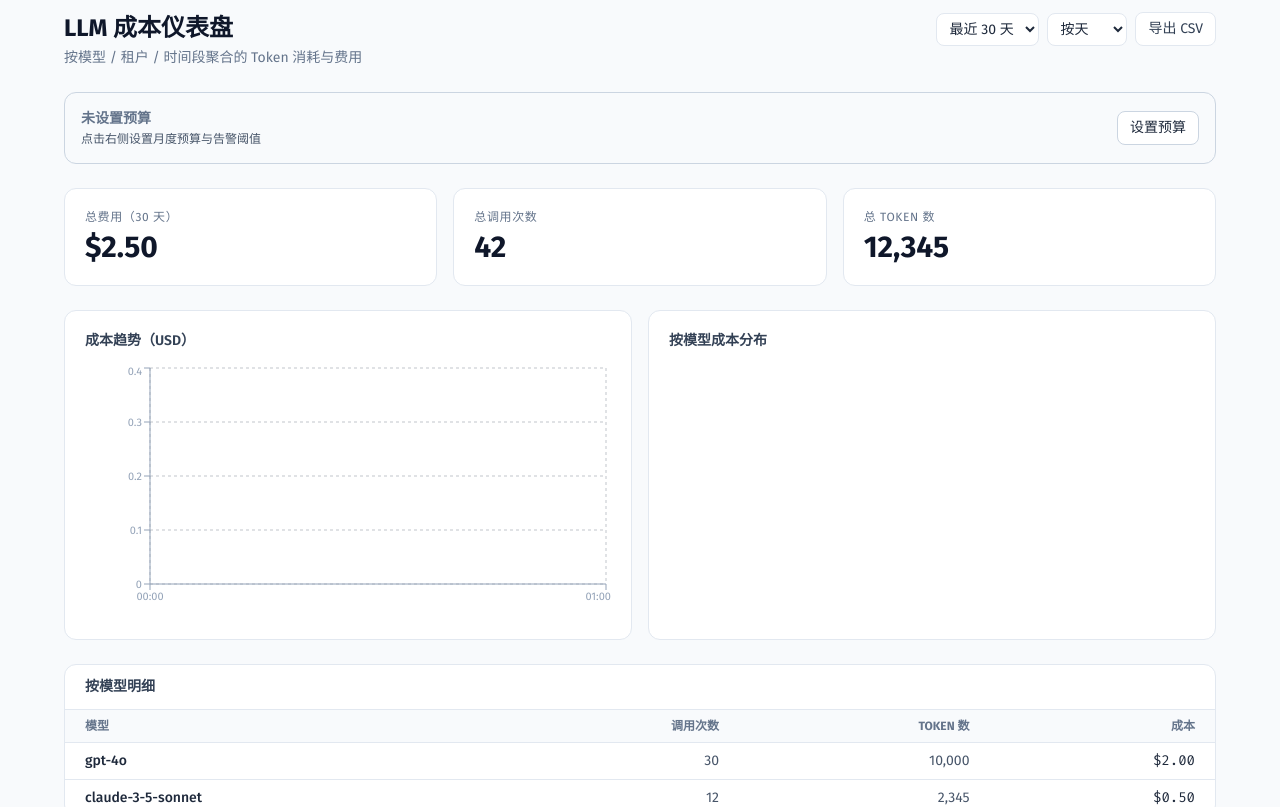
Scenario: CostDashboard › opens the budget editor when the user clicks "设置预算"
Click the button "设置预算". click: click(1158, 128)
box: [1117, 111, 1199, 145]
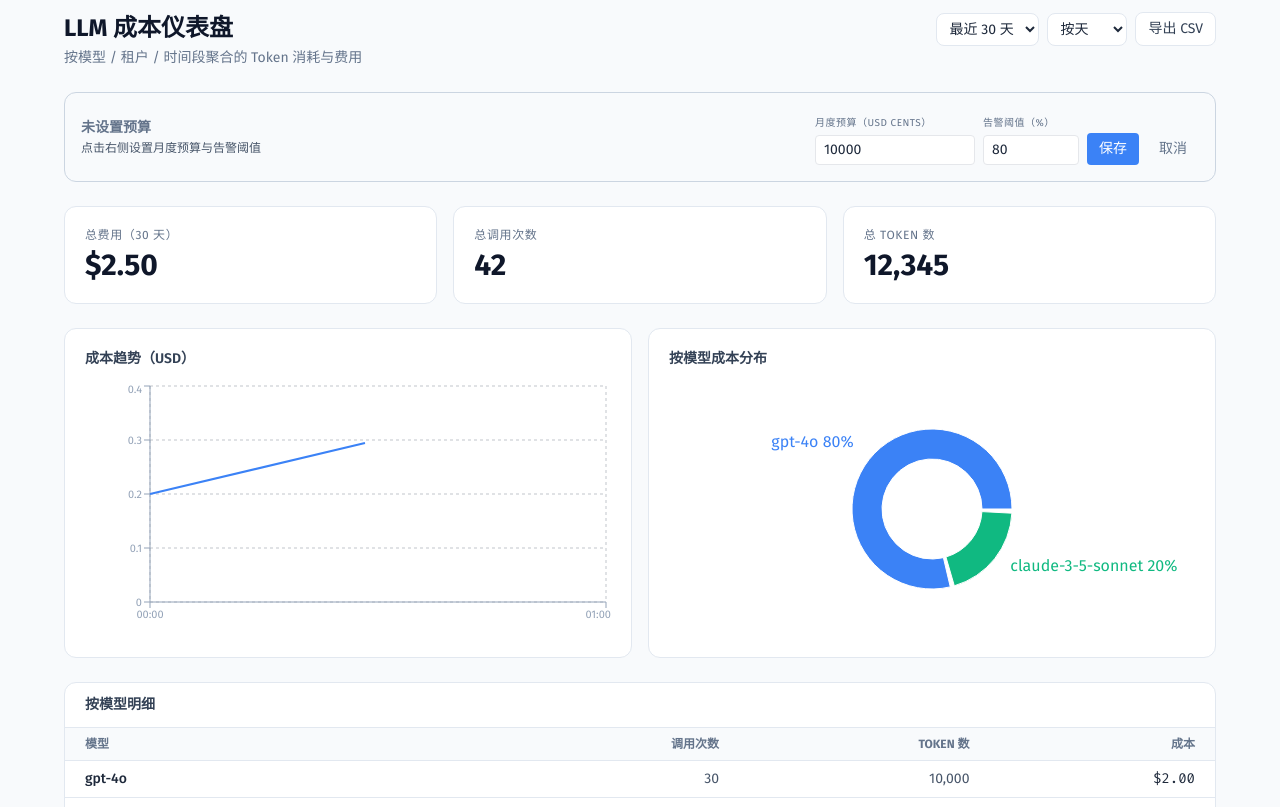
expect the button "保存" is shown: met, box [1087, 133, 1139, 165]
